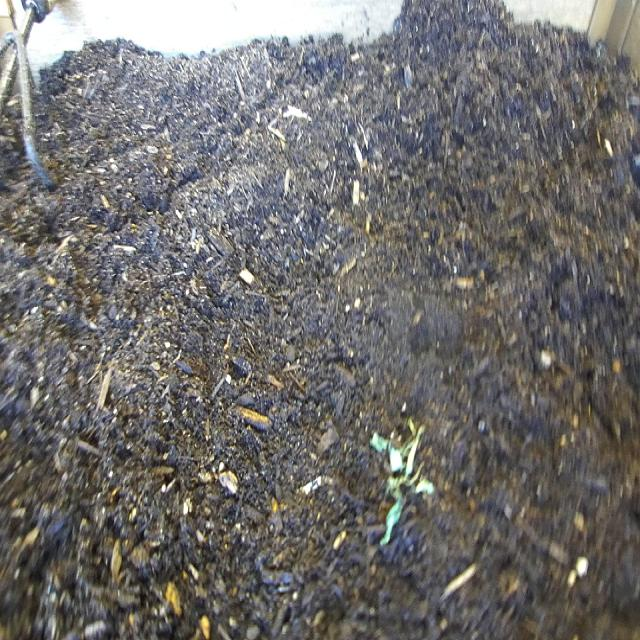Unhealthy: (366, 413, 436, 552)
